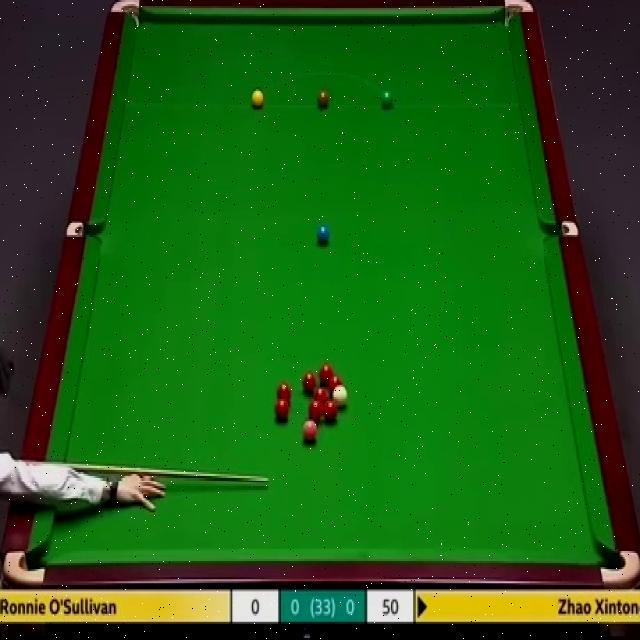blue-ball: (316, 222, 332, 247)
brown-ball: (317, 90, 330, 111)
green-ball: (382, 89, 396, 111)
pink-ball: (301, 419, 319, 444)
red-ball: (274, 399, 291, 422), (306, 386, 323, 408), (323, 400, 338, 424), (318, 362, 334, 384), (308, 400, 323, 420), (276, 383, 291, 403), (303, 372, 316, 392), (329, 376, 343, 394)
white-ball: (332, 384, 348, 409)
yellow-ball: (251, 88, 264, 110)
